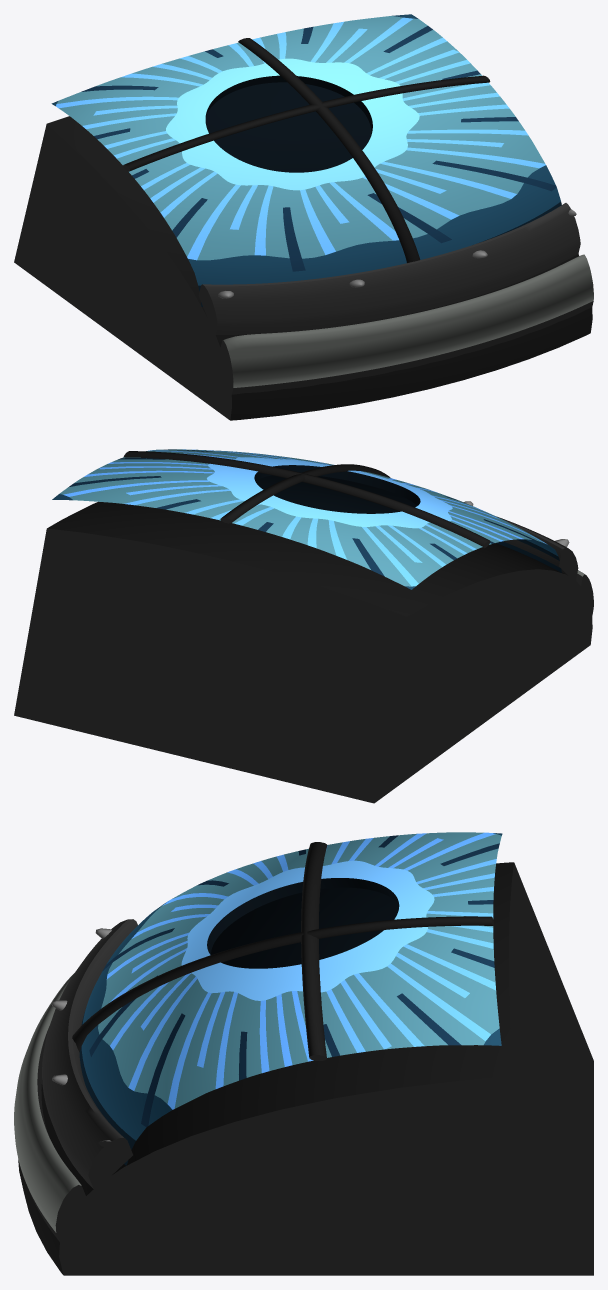
Rendered from eye_sphere_212.glb.
3 views of the same model, one above another, from view 1: azimuth 30°, elevation 25°; view 2: azimuth 150°, elevation 25°; view 3: azimuth 270°, elevation 25° (orthographic). The views are drawn at different scales.
Parts seen in each view (by area): view 1: eye_sphere_212; view 2: eye_sphere_212; view 3: eye_sphere_212.
Boxes of the visible parts, x1,y1,x2,y2 form: eye_sphere_212: [14, 14, 593, 420]; eye_sphere_212: [14, 449, 593, 803]; eye_sphere_212: [14, 832, 593, 1275].
Bounding box in the file's own units: 24 × 13.3 × 27.4.
